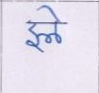o_matra: (47, 6, 65, 44)
